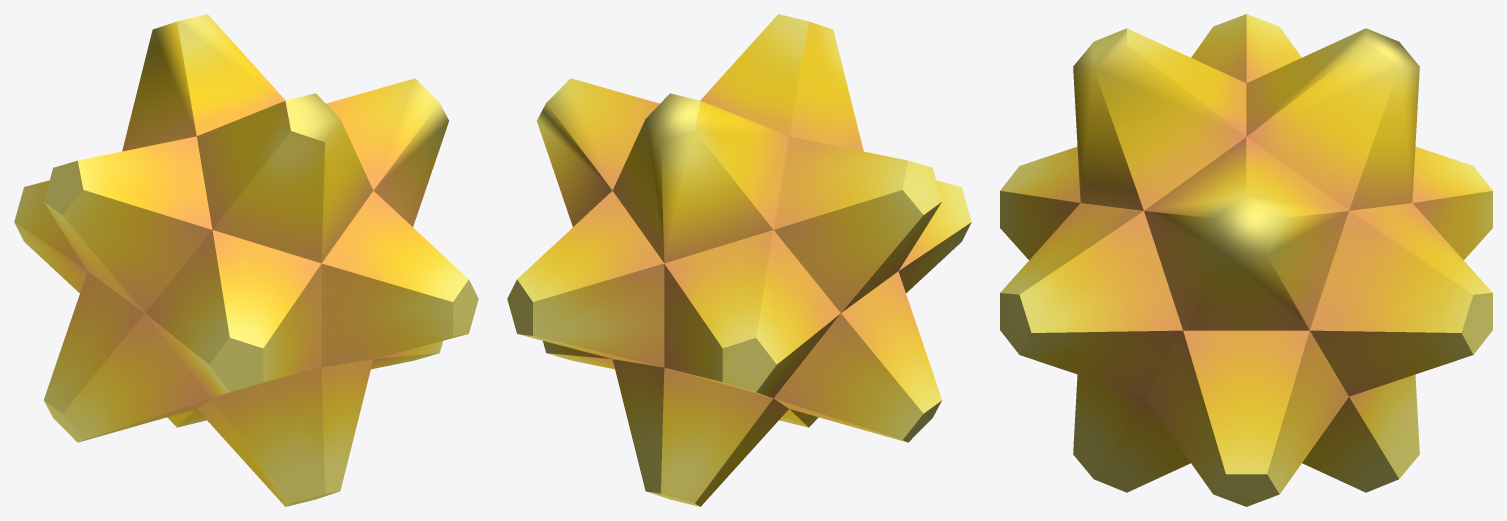
The model's file is stardrop.fbx.
3 views of the same model, side by side, from view 1: azimuth 30°, elevation 25°; view 2: azimuth 150°, elevation 25°; view 3: azimuth 270°, elevation 25° (orthographic). The views are drawn at different scales.
Parts seen in each view (by area): view 1: stardrop; view 2: stardrop; view 3: stardrop.
Boxes of the visible parts, x1,y1,x2,y2 form: stardrop: [14, 14, 478, 506]; stardrop: [507, 14, 971, 506]; stardrop: [1000, 14, 1492, 506].
Bounding box in the file's own units: 0.9847 × 0.988 × 0.9847.
